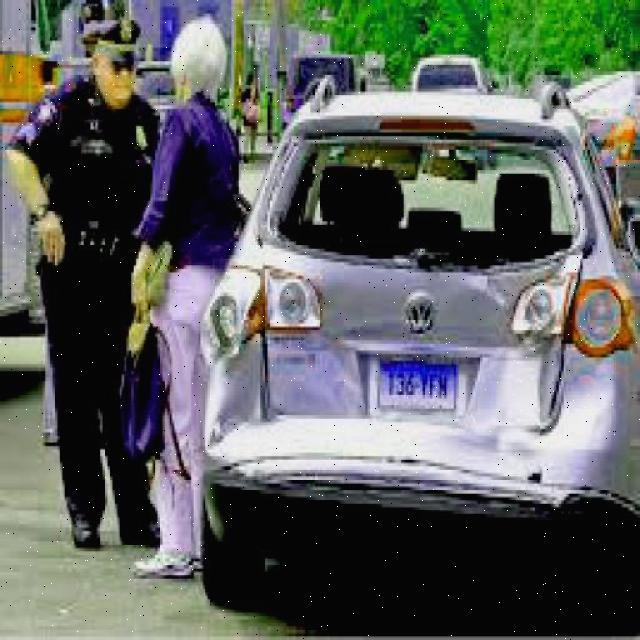car damage: (199, 114, 615, 504)
